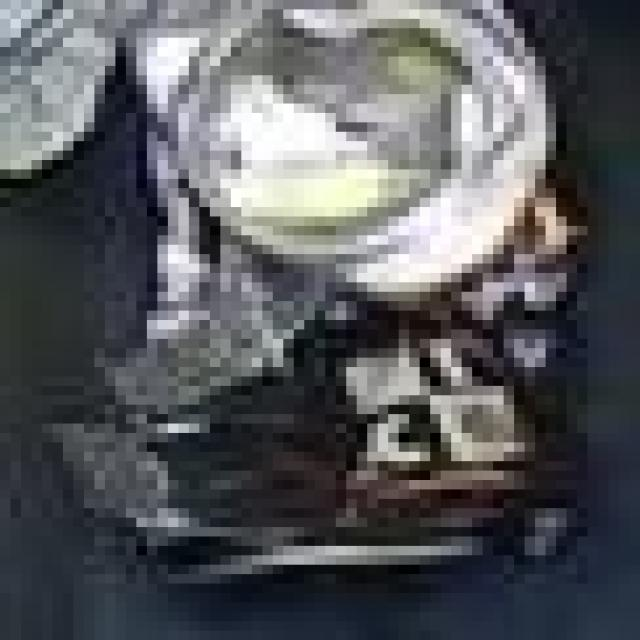can: (7, 1, 609, 622)
